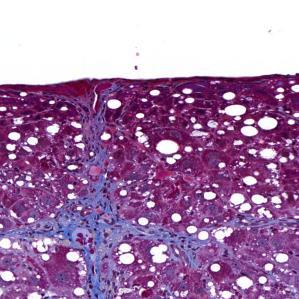fibrosis: (51, 198, 143, 254)
